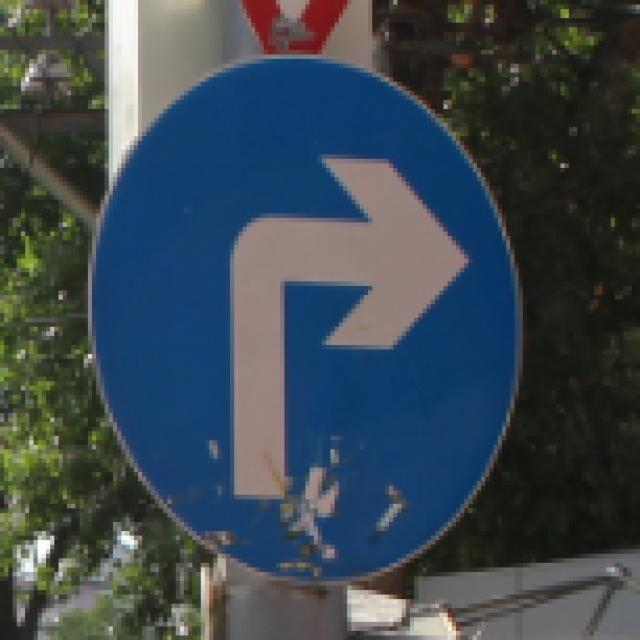Right: (83, 53, 527, 593)
